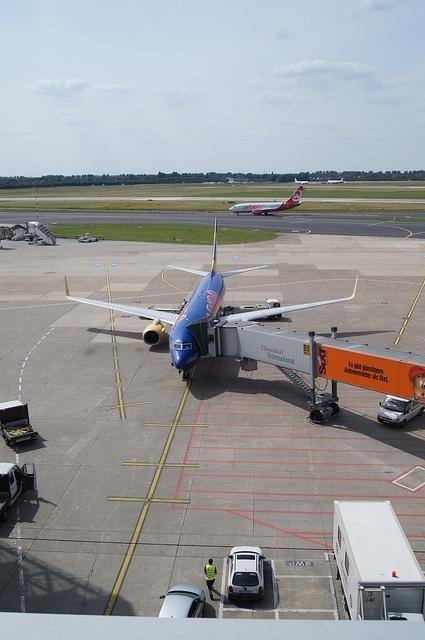car: (226, 546, 266, 604), (158, 584, 206, 618)
truck: (332, 501, 425, 622), (0, 461, 36, 518), (0, 399, 39, 446), (376, 394, 425, 428)
